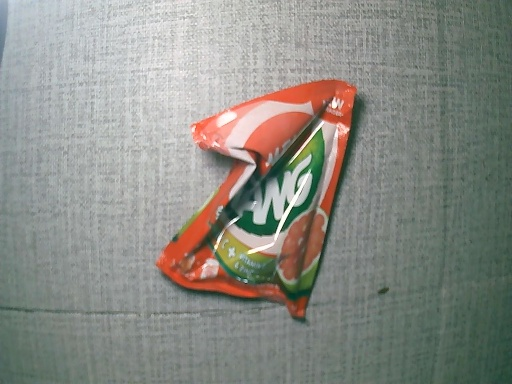plastic: (150, 78, 358, 322)
